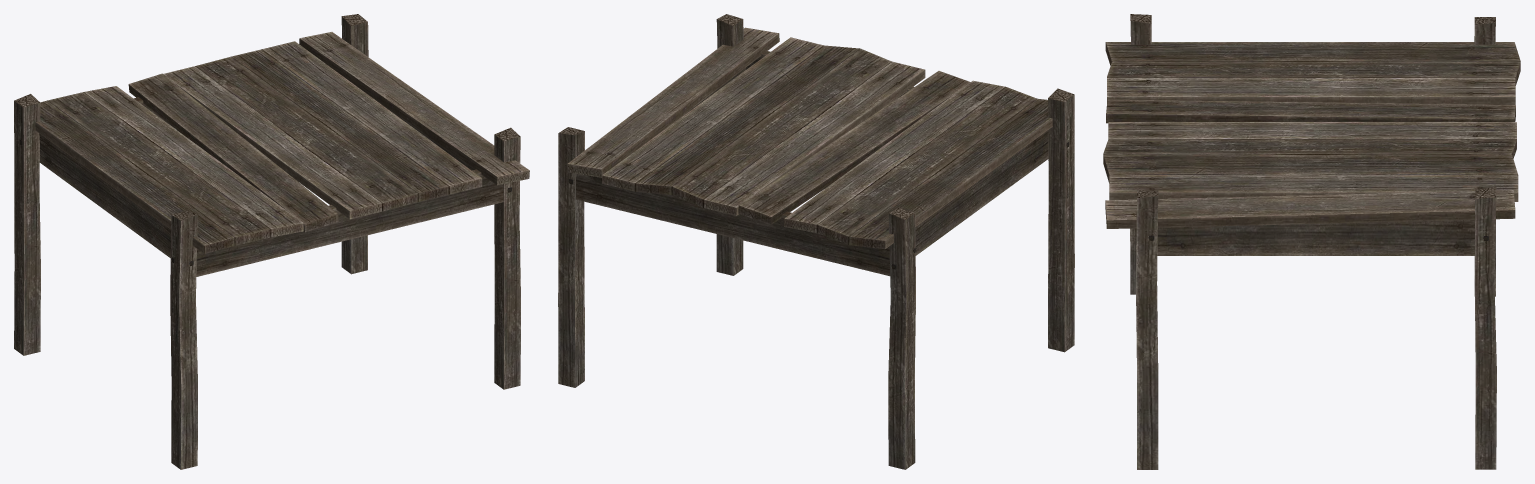
File: eso_gu1_WoodPlatform2-transformed.glb
The picture shows the model from 3 angles, left to right: view 1: azimuth 30°, elevation 25°; view 2: azimuth 150°, elevation 25°; view 3: azimuth 270°, elevation 25°; orthographic projection. The views are drawn at different scales.
Parts seen in each view (by area): view 1: default; view 2: default; view 3: default.
Boxes of the visible parts, x1=… form: default: x1=14, y1=14, x2=529, y2=469; default: x1=558, y1=14, x2=1074, y2=469; default: x1=1103, y1=14, x2=1520, y2=469.
Size of the model in its own units: 6.65 by 4.63 by 6.35.
Materials: 1 (1 with a texture image).
